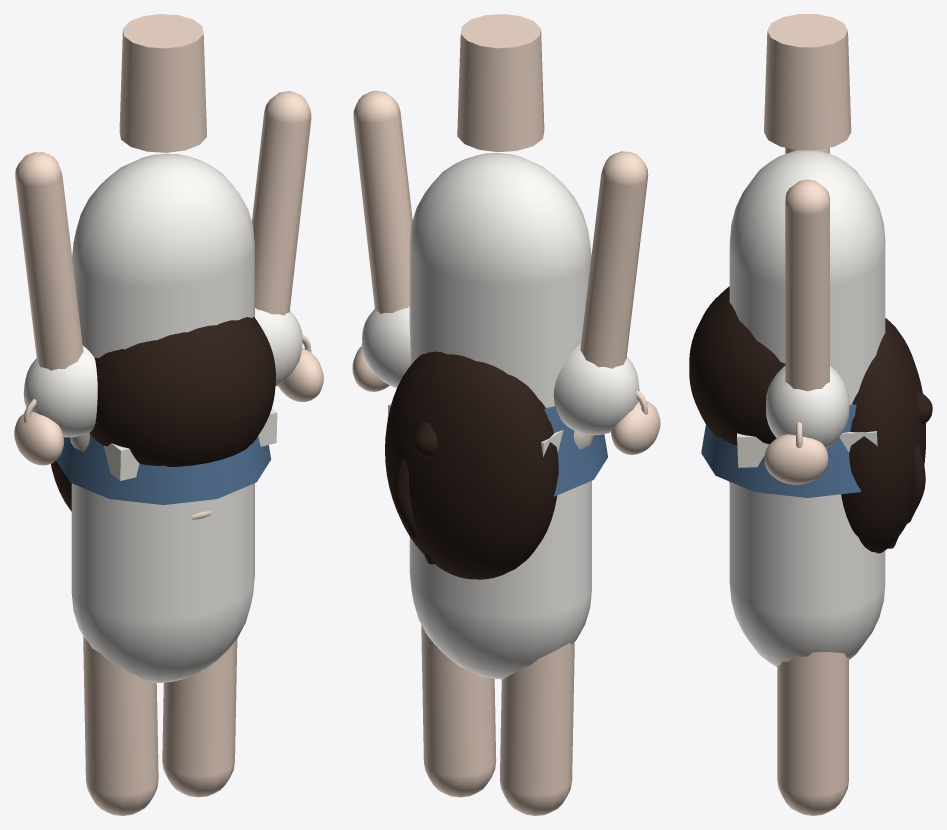
Rendered from junior_2005_runtime_mobile.glb.
The picture shows the model from 3 angles, left to right: view 1: azimuth 30°, elevation 25°; view 2: azimuth 150°, elevation 25°; view 3: azimuth 270°, elevation 25°; orthographic projection.
Visible parts, largest first — view 1: torso_main, neck, hair_cap, shorts_hip, shoe_l; view 2: torso_main, neck, hair_cap, shorts_hip; view 3: torso_main, neck, hair_cap, shorts_hip, shoe_l.
Boxes of the visible parts, x1,y1,x2,y2 form: torso_main: [23, 153, 302, 682]; neck: [14, 14, 323, 815]; hair_cap: [51, 317, 275, 511]; shorts_hip: [56, 433, 271, 504]; shoe_l: [103, 408, 277, 480]; torso_main: [362, 153, 639, 679]; neck: [352, 14, 660, 815]; hair_cap: [385, 351, 558, 579]; shorts_hip: [544, 406, 607, 496]; torso_main: [729, 150, 885, 666]; neck: [764, 14, 851, 815]; hair_cap: [689, 286, 932, 553]; shorts_hip: [701, 404, 861, 497]; shoe_l: [737, 431, 877, 467].
Size of the model in its own units: 19619 by 48786 by 14099.
Materials: 16 (16 with a texture image).
